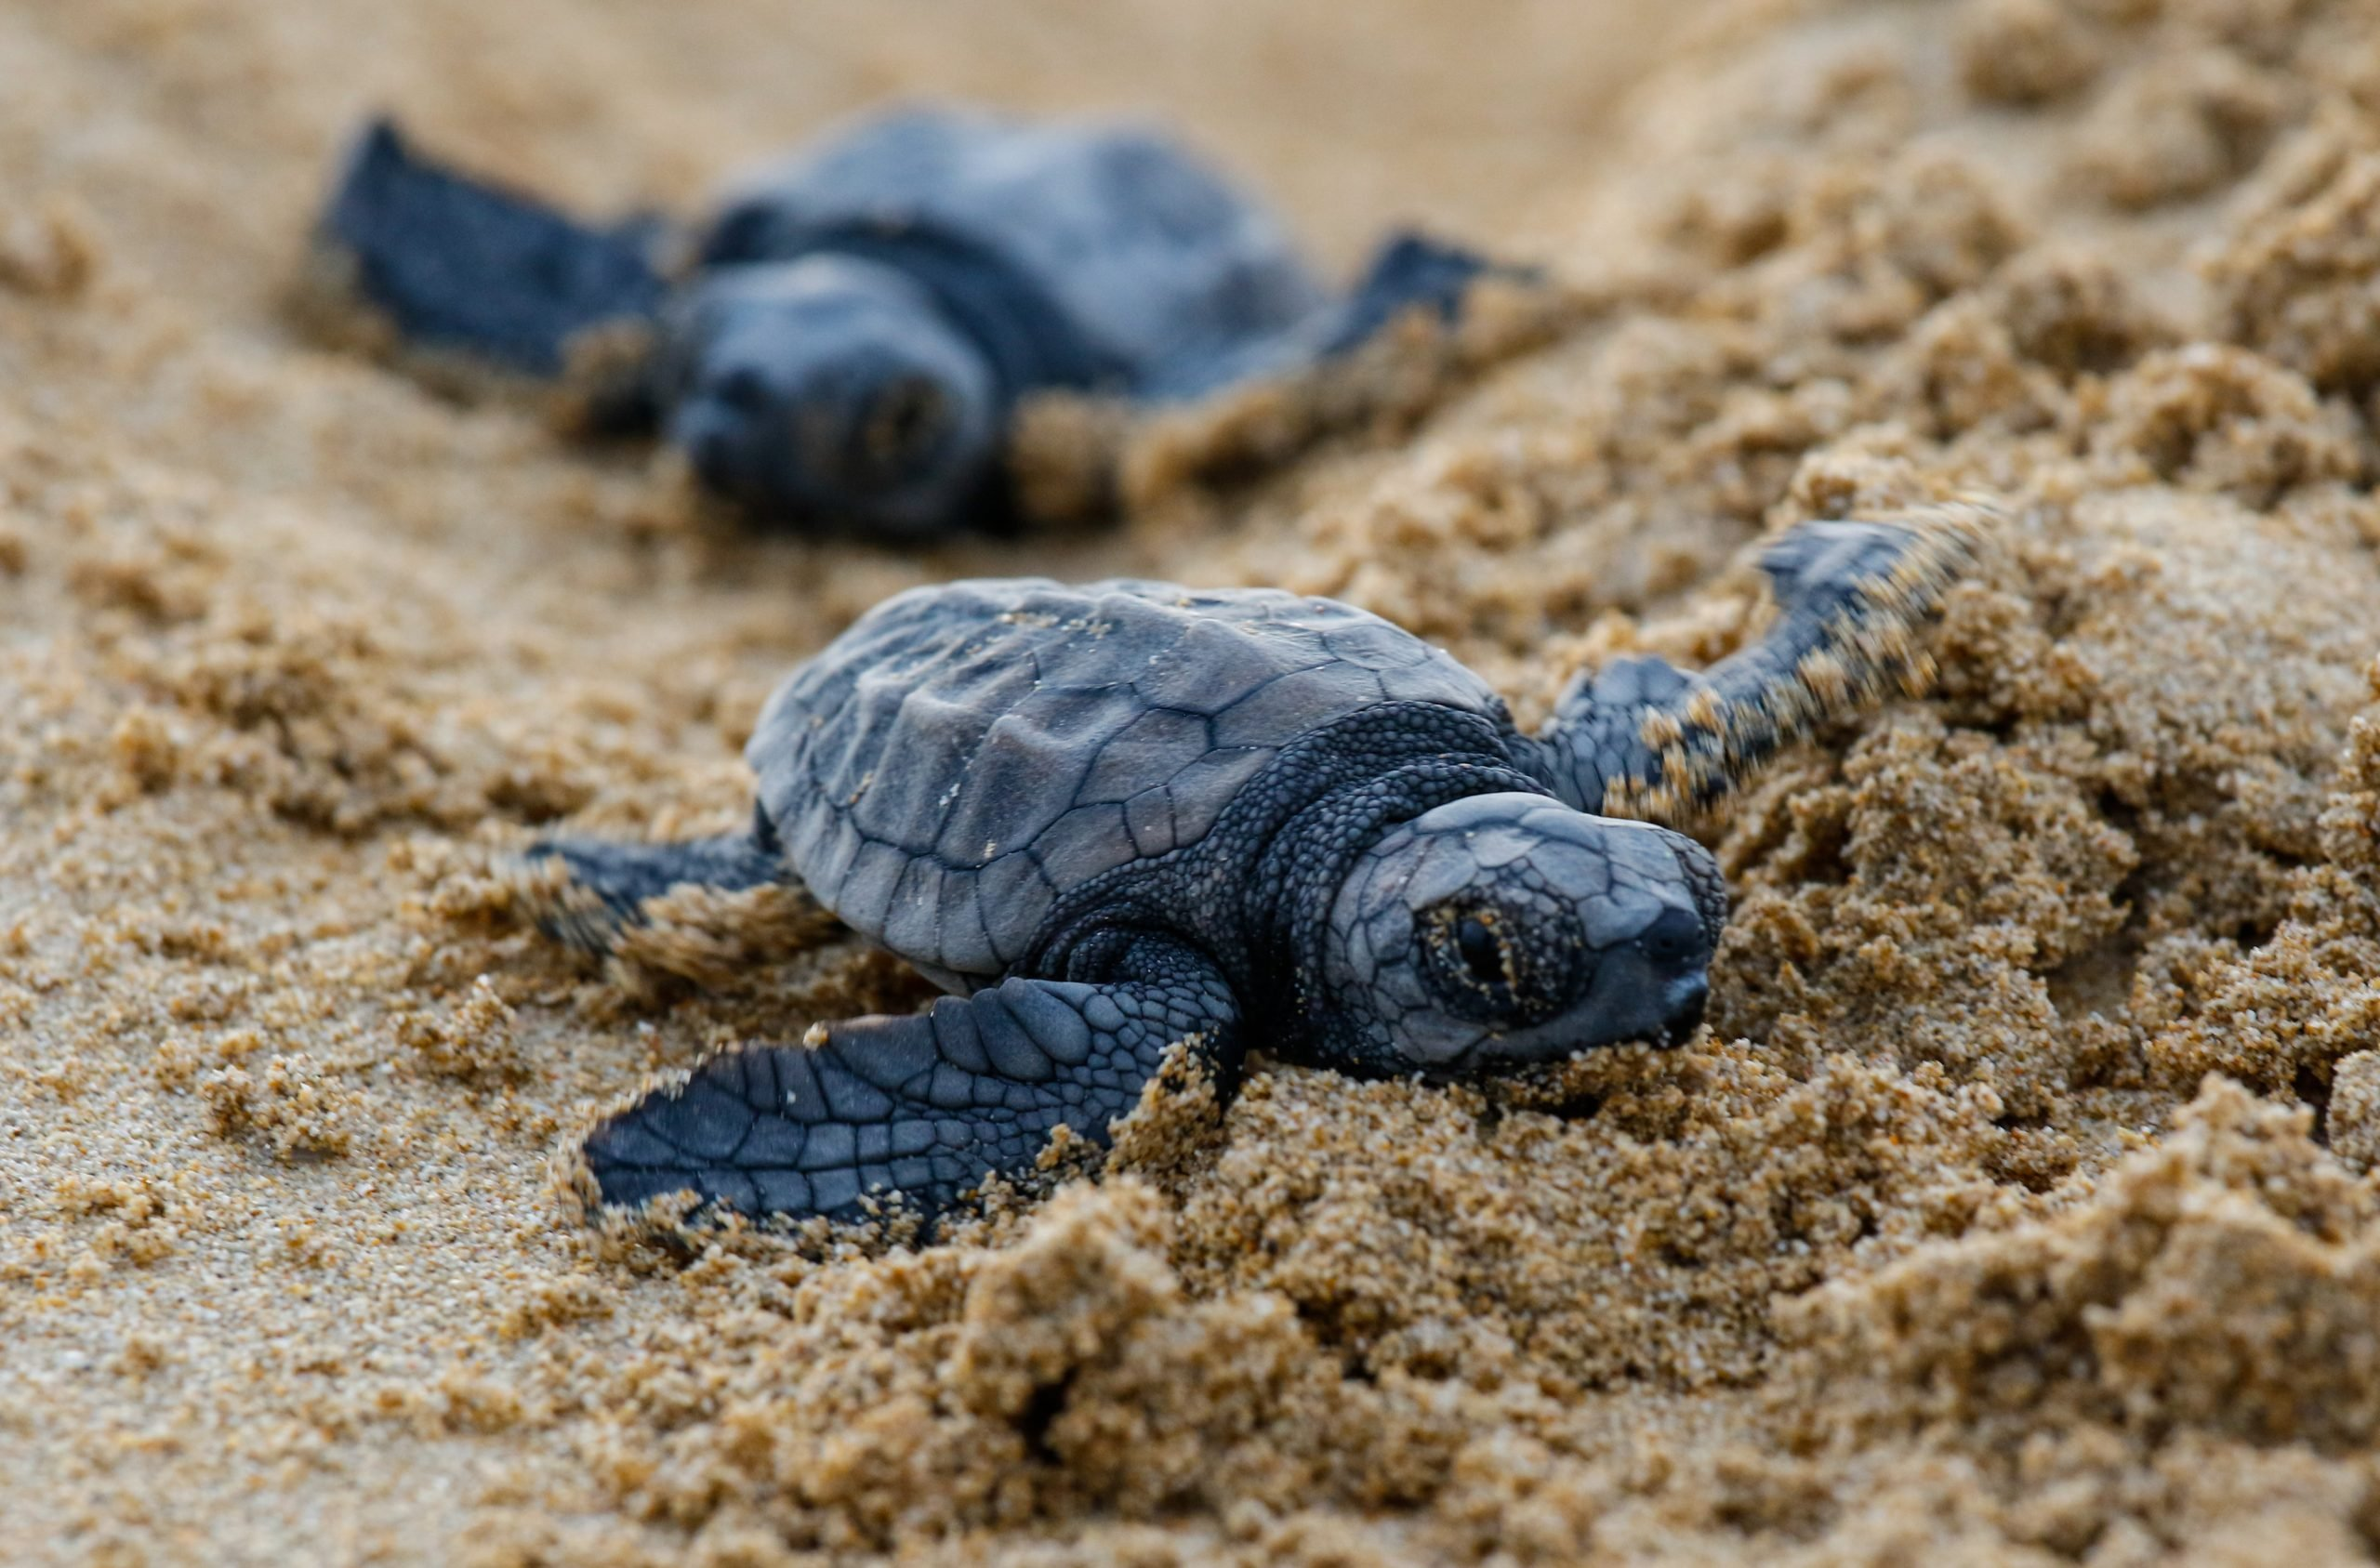eye: (1414, 899, 1582, 1018), (1664, 831, 1736, 943)
mouth: (1472, 989, 1713, 1069)
